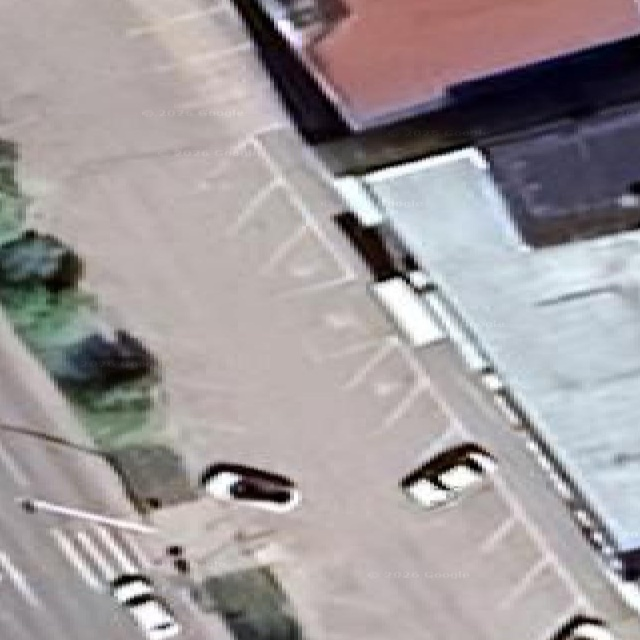car: (400, 444, 495, 507), (200, 463, 299, 512), (111, 573, 179, 639), (552, 615, 612, 639)
